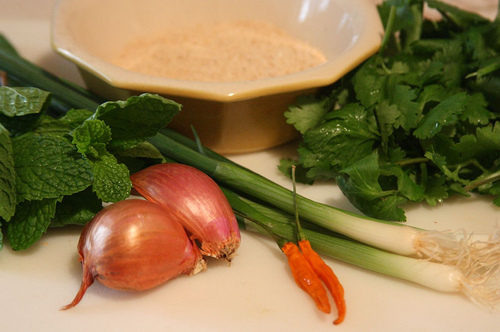onion: (59, 200, 207, 309), (124, 163, 243, 267)
